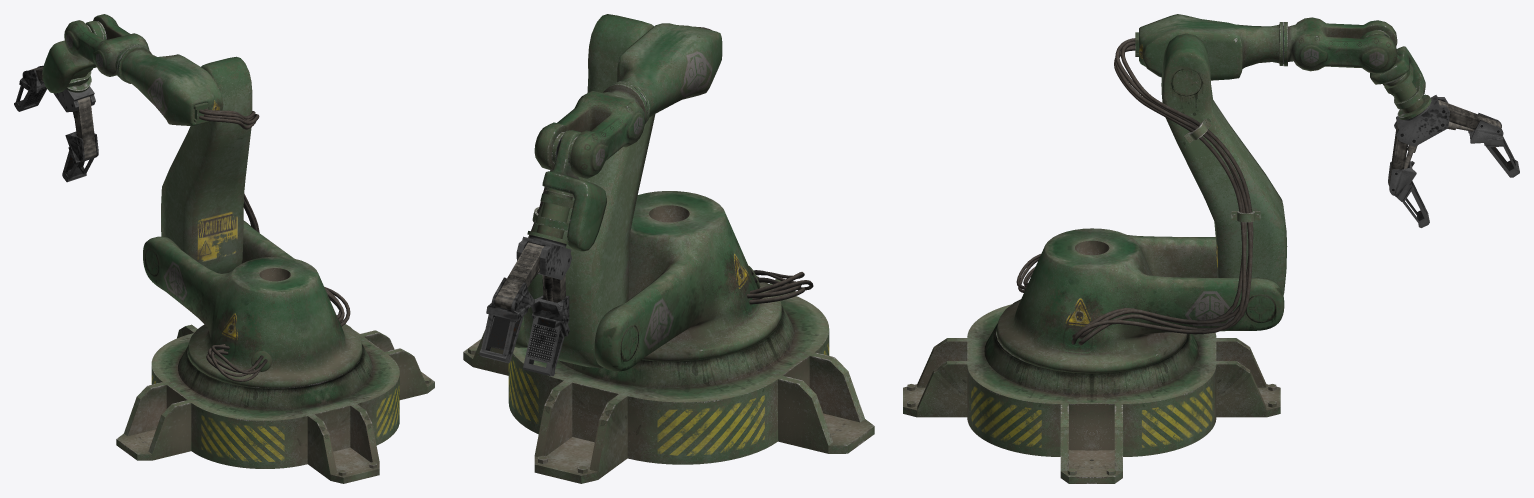
Rendered from industrial_robot.glb.
3 views of the same model, side by side, from view 1: azimuth 30°, elevation 25°; view 2: azimuth 150°, elevation 25°; view 3: azimuth 270°, elevation 25° (orthographic). The views are drawn at different scales.
Visible parts, largest first — view 1: robot.028_low, robot.002_low, robot.001_low, robot.009_low, Circle.001, robot.033_low.002, robot.011_low, robot.005_low, robot.011_low.001, robot.004_low; view 2: robot.028_low, robot.002_low, robot.001_low, robot.009_low, robot.033_low.002, Circle.001, robot.005_low, robot.011_low.001, robot.004_low; view 3: robot.028_low, robot.002_low, robot.001_low, robot.009_low, robot.011_low, robot.033_low.002, Circle.001, robot.004_low, robot.005_low.
Part boxes in pixels (bbox=[...]): robot.028_low: bbox=[116, 324, 434, 483]; robot.002_low: bbox=[143, 220, 362, 388]; robot.001_low: bbox=[161, 56, 252, 273]; robot.009_low: bbox=[64, 14, 223, 125]; Circle.001: bbox=[42, 21, 104, 93]; robot.033_low.002: bbox=[14, 65, 98, 182]; robot.011_low: bbox=[199, 109, 350, 326]; robot.005_low: bbox=[30, 67, 96, 159]; robot.011_low.001: bbox=[206, 344, 267, 381]; robot.004_low: bbox=[53, 86, 95, 112]; robot.028_low: bbox=[463, 279, 874, 483]; robot.002_low: bbox=[515, 191, 781, 371]; robot.001_low: bbox=[524, 14, 655, 368]; robot.009_low: bbox=[534, 23, 722, 178]; robot.033_low.002: bbox=[479, 277, 569, 376]; Circle.001: bbox=[527, 130, 606, 251]; robot.005_low: bbox=[494, 242, 565, 309]; robot.011_low.001: bbox=[747, 270, 813, 304]; robot.004_low: bbox=[516, 236, 571, 279]; robot.028_low: bbox=[903, 304, 1280, 483]; robot.002_low: bbox=[996, 228, 1284, 373]; robot.001_low: bbox=[1161, 33, 1287, 295]; robot.009_low: bbox=[1135, 14, 1397, 80]; robot.011_low: bbox=[1071, 38, 1253, 345]; robot.033_low.002: bbox=[1388, 113, 1519, 227]; Circle.001: bbox=[1360, 29, 1431, 119]; robot.004_low: bbox=[1394, 95, 1450, 146]; robot.005_low: bbox=[1388, 100, 1501, 186].
Bounding box in the file's own units: 644 × 674 × 1053.
1 material, 1 textured.
